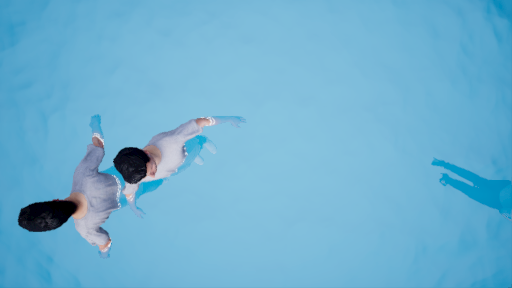person: (14, 112, 237, 255)
